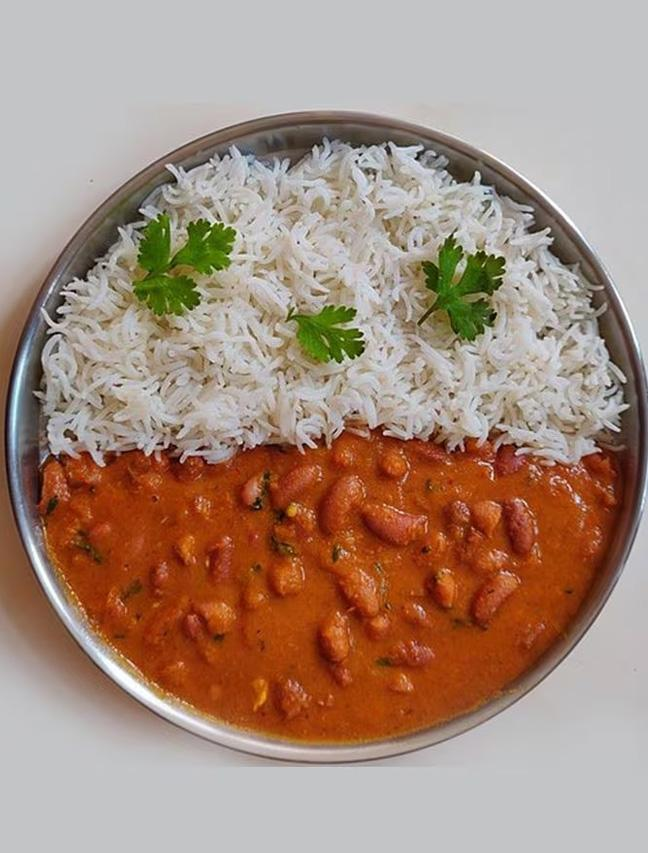rajma: (16, 458, 604, 751)
rice: (56, 161, 614, 431), (81, 188, 582, 436)
